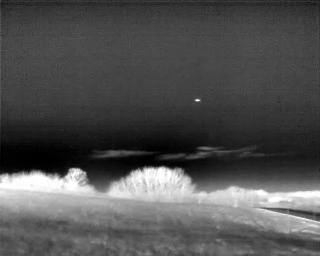AIRPLANE: (193, 96, 202, 104)
